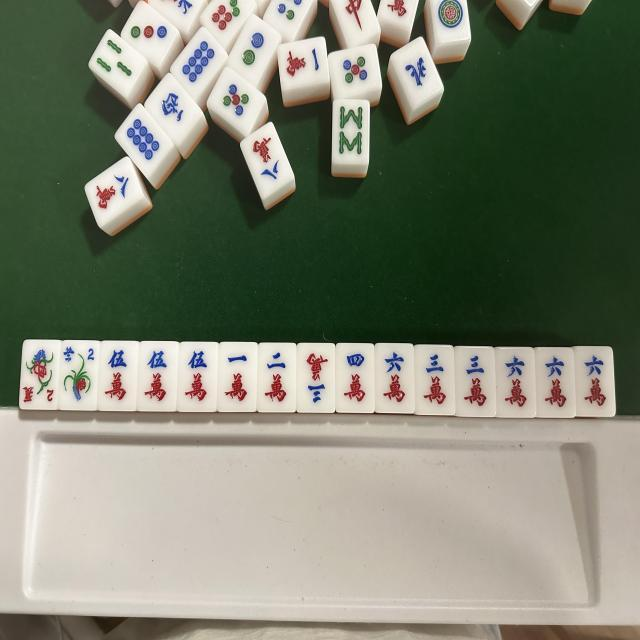bf2: (62, 344, 96, 412)
bs2: (23, 343, 57, 406)
sc1: (218, 346, 254, 408)
sc2: (260, 346, 298, 408), (260, 348, 296, 410)
sc3: (458, 348, 496, 416), (417, 348, 453, 416), (302, 346, 338, 410)
sc4: (338, 346, 374, 411)
sc5: (140, 342, 176, 407), (182, 344, 216, 408), (100, 345, 136, 405)
sc6: (375, 346, 411, 413), (538, 350, 574, 416), (576, 351, 612, 416), (501, 350, 535, 412)
